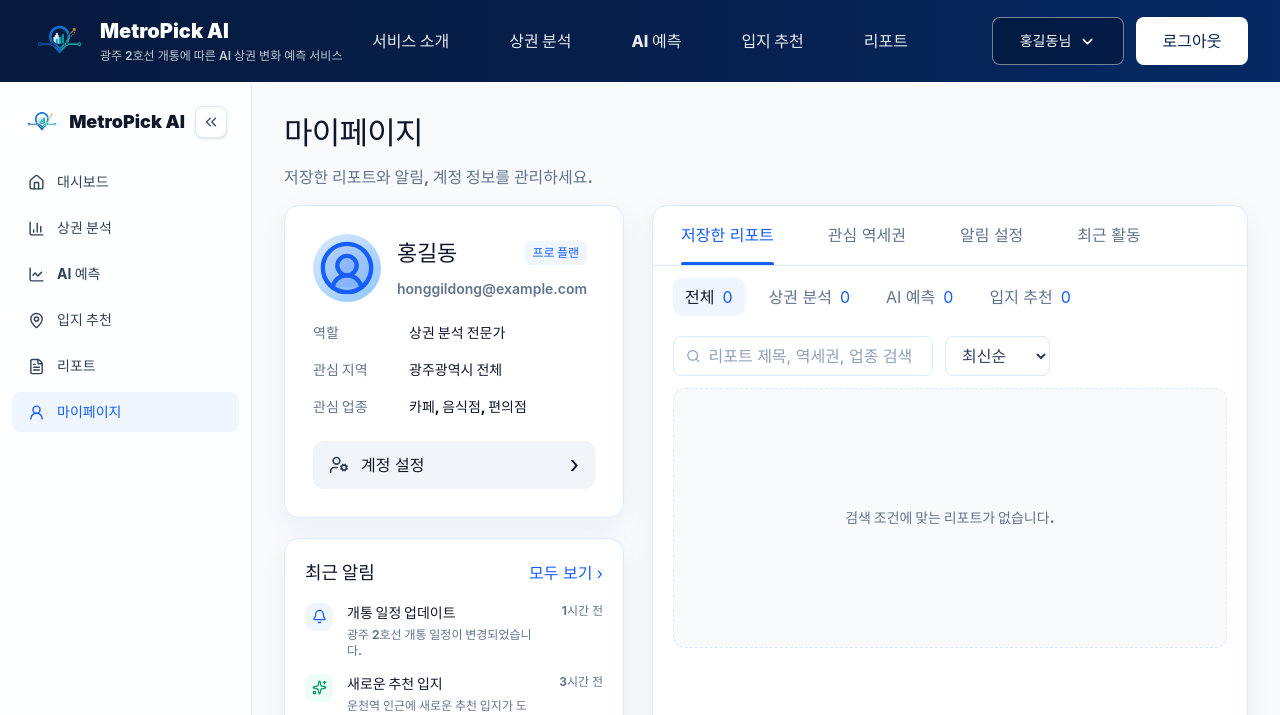
Test: MyPage › shows backend interest locations when Supabase is connected
Click the tab "관심 역세권". click: point(867, 235)
box: [828,205,906,265]
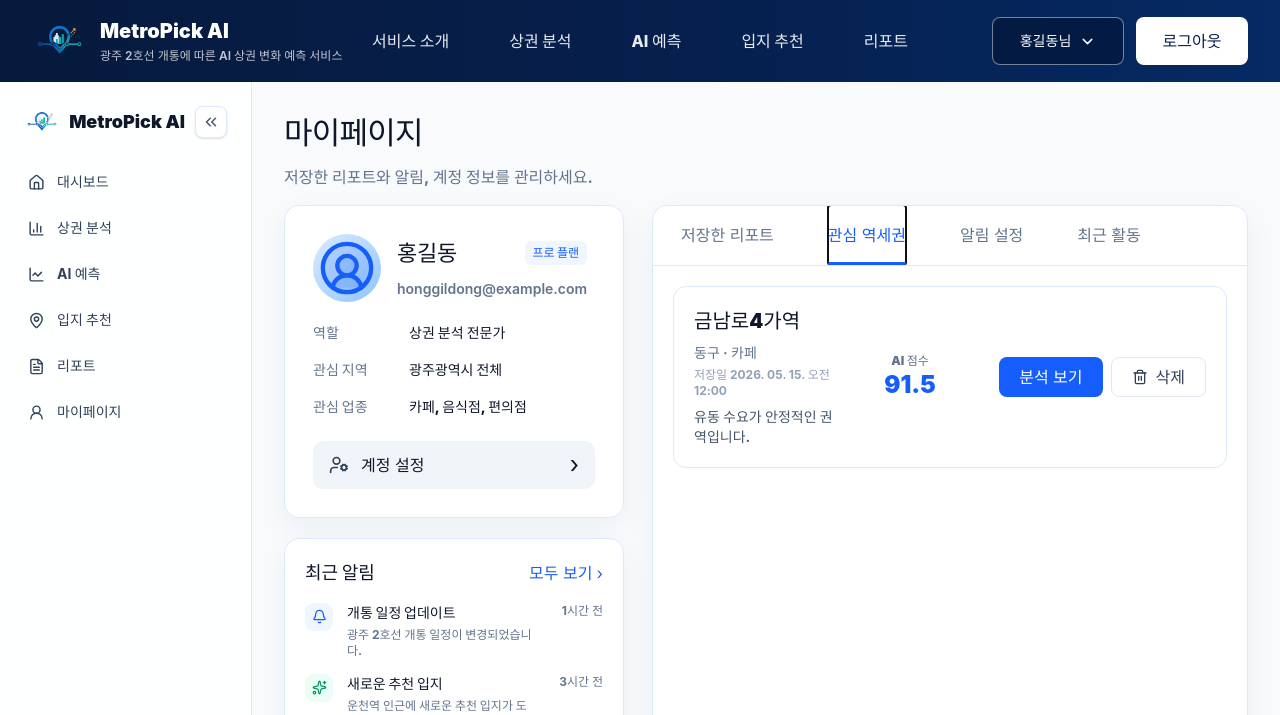
Expected: the heading "금남로4가역" is shown, [694,308,800,332]
Expected: the text "동구 · 카페" is shown, [694,344,757,360]
Expected: the text "91.5" is shown, [884,370,936,398]
